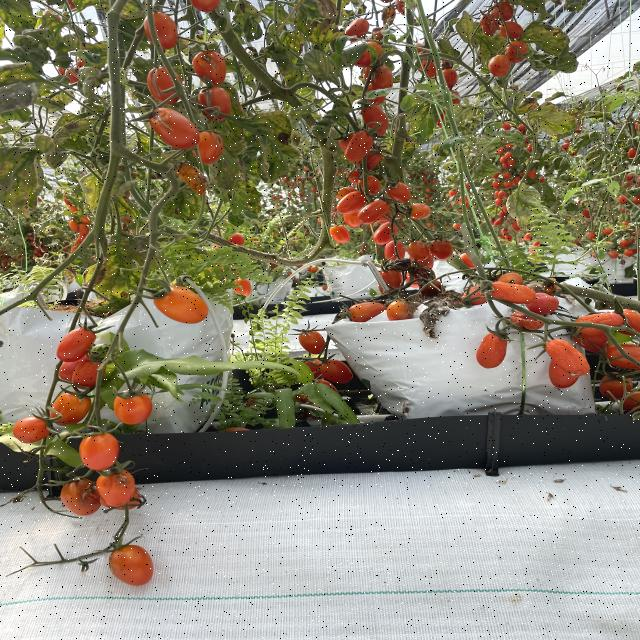Soilbag: (0, 284, 243, 436), (353, 298, 601, 423)
Tomato: (30, 323, 182, 591), (472, 259, 636, 408), (323, 50, 426, 284), (154, 22, 224, 173), (288, 323, 346, 383)
plant: (324, 7, 573, 306), (33, 1, 190, 293)
